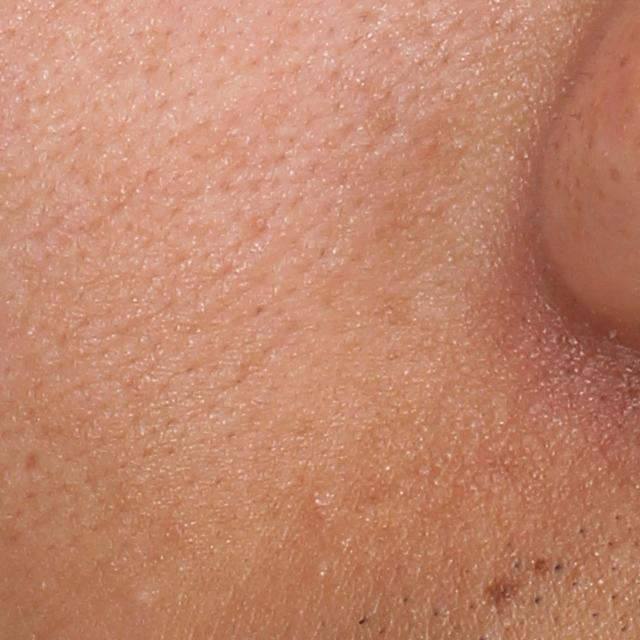atrophic_scar: (18, 447, 44, 478)
comedo: (127, 580, 158, 614)
nevus: (482, 570, 524, 610)
